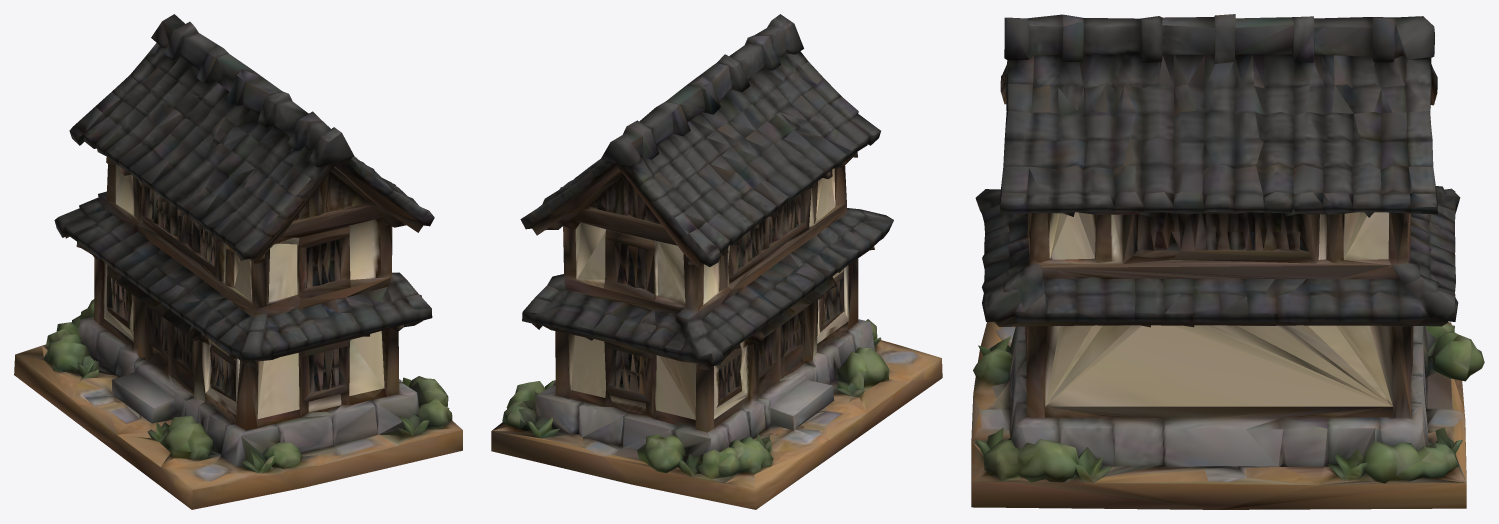
Rendered from house_t3.glb.
3 renders of one model, left to right at view 1: azimuth 30°, elevation 25°; view 2: azimuth 150°, elevation 25°; view 3: azimuth 270°, elevation 25°, orthographic. The views are drawn at different scales.
Visible parts, largest first — view 1: tripo_node_23f6bed8-e462-499d-82e4-43e4900a65d2; view 2: tripo_node_23f6bed8-e462-499d-82e4-43e4900a65d2; view 3: tripo_node_23f6bed8-e462-499d-82e4-43e4900a65d2.
Boxes of the visible parts, x1=… form: tripo_node_23f6bed8-e462-499d-82e4-43e4900a65d2: x1=14, y1=14, x2=462, y2=509; tripo_node_23f6bed8-e462-499d-82e4-43e4900a65d2: x1=491, y1=14, x2=942, y2=509; tripo_node_23f6bed8-e462-499d-82e4-43e4900a65d2: x1=971, y1=14, x2=1484, y2=509.
Size of the model in its own units: 0.7758 by 0.8886 by 0.9771.
Materials: 1 (1 with a texture image).
